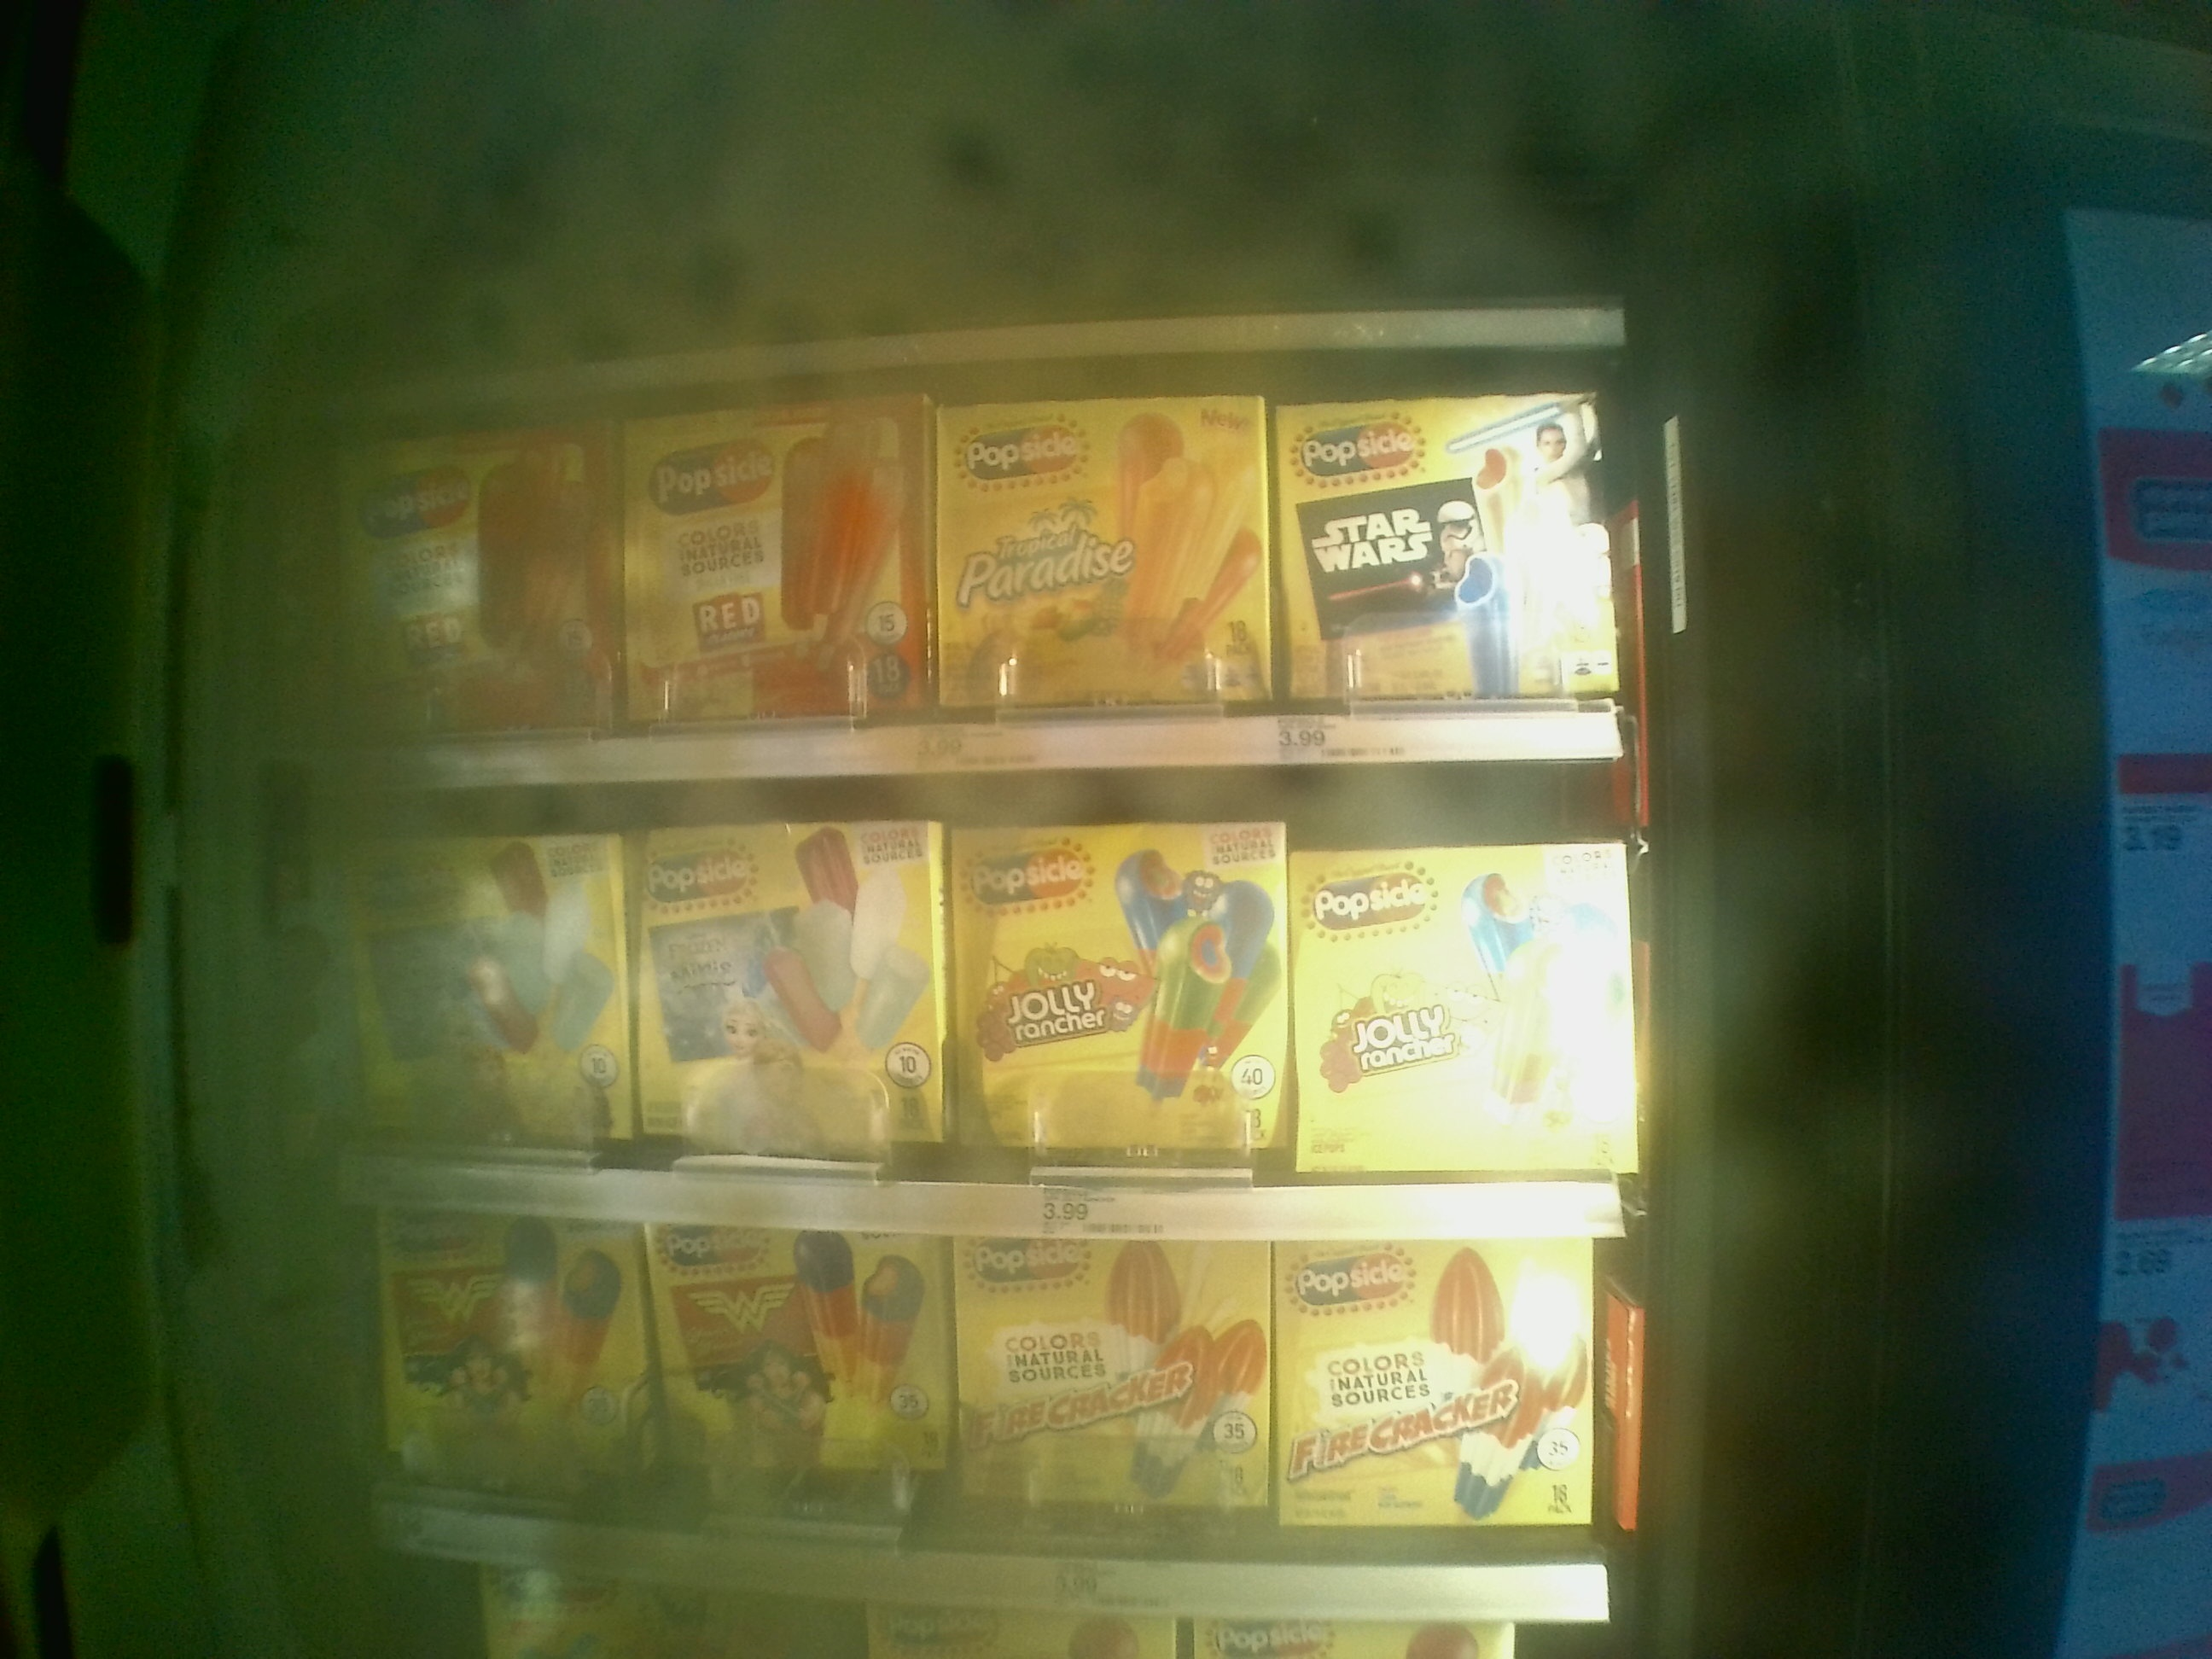shelf: (343, 1194, 1629, 1593)
